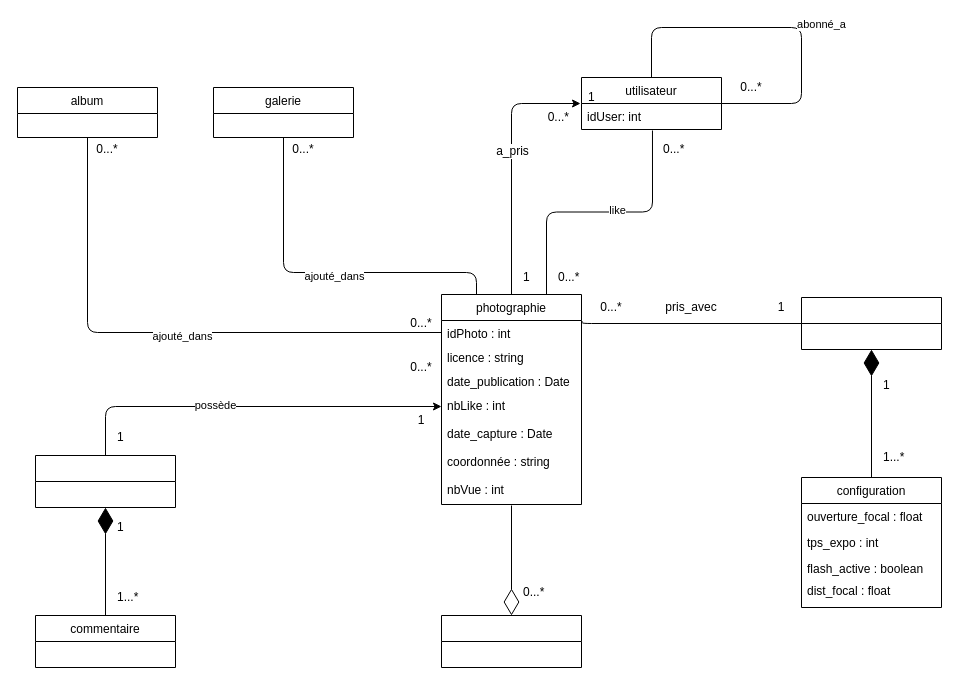
Image size: 959x685. Some labels were removed from this diagram. Each missing label, with the centre of its shape:
appareil photo: point (871, 323)
balises: point (511, 641)
discussion: point (105, 481)
